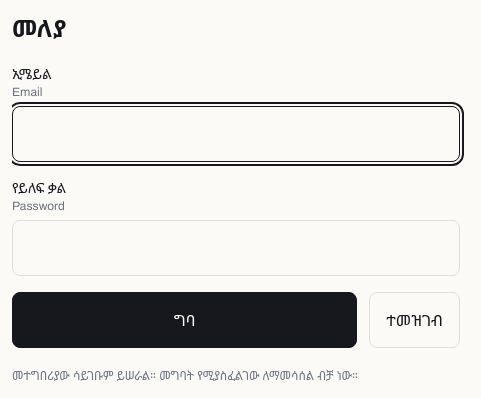
Scenario: sign-in errors › explains a failed shop lookup as a sync problem, not as a success notice
Type "a@b.et" into the field labelled "ኢሜይል". click: x=236, y=134
box: [12,106,460,162]
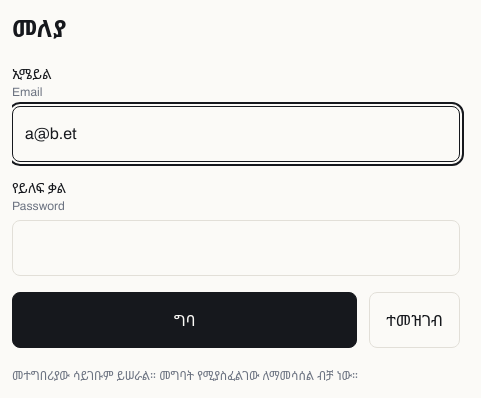
Type "x" into the password field labelled "የይለፍ ቃል". click: x=236, y=248
box: [12,220,460,276]
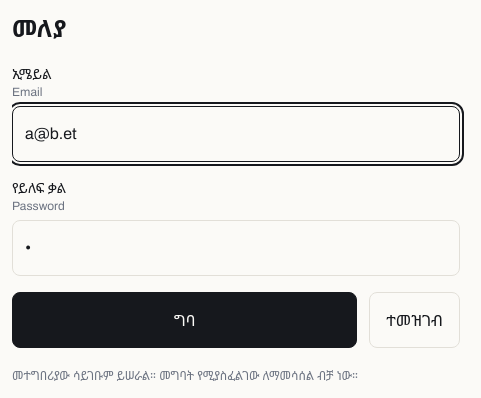
Click the button "ግባ". click: x=185, y=320
box: [12,292,357,348]
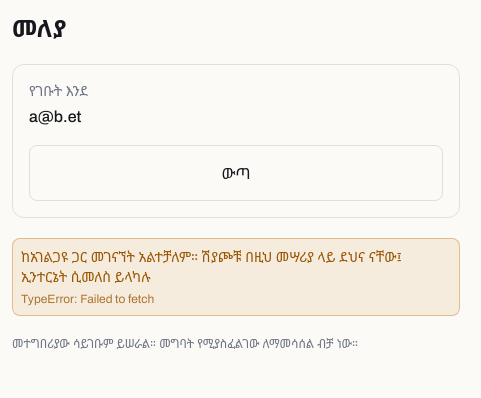
Now the text "ከአገልጋዩ ጋር መገናኘት አልተቻለም። ሽያጮቹ በዚህ መሣሪያ ላይ ደህና ናቸው፤ ኢንተርኔት ሲመለስ ይላካሉ" is shown, box [21,247,451,287]
Now the element with test id "shop-error" is shown, box [12,238,460,316]
